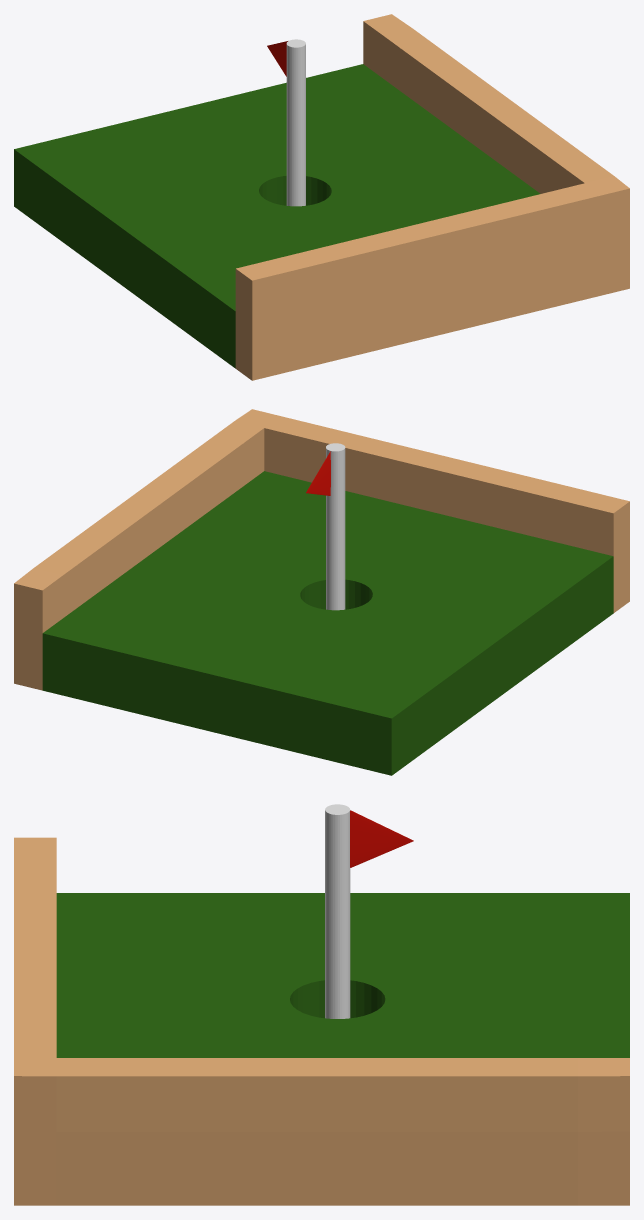
The model's file is Lego9.fbx.
3 renders of one model, top to bottom at view 1: azimuth 30°, elevation 25°; view 2: azimuth 150°, elevation 25°; view 3: azimuth 270°, elevation 25°, orthographic. The views are drawn at different scales.
Parts seen in each view (by area): view 1: Cube.006, Cube.019, Pole.003; view 2: Cube.006, Cube.019, Pole.003, flag.003; view 3: Cube.019, Cube.006, Pole.003, flag.003.
Boxes of the visible parts, box(x1,y1,x2,y2) form: Cube.006: box(14, 64, 540, 368); Cube.019: box(235, 14, 629, 380); Pole.003: box(286, 39, 305, 206); Cube.006: box(42, 471, 613, 775); Cube.019: box(14, 409, 629, 690); Pole.003: box(326, 443, 345, 610); flag.003: box(306, 451, 330, 495); Cube.019: box(14, 837, 629, 1205); Cube.006: box(56, 893, 629, 1057); Pole.003: box(325, 804, 350, 1018); flag.003: box(350, 810, 413, 867).
Bounding box in the file's own units: 166 × 85.71 × 181.
